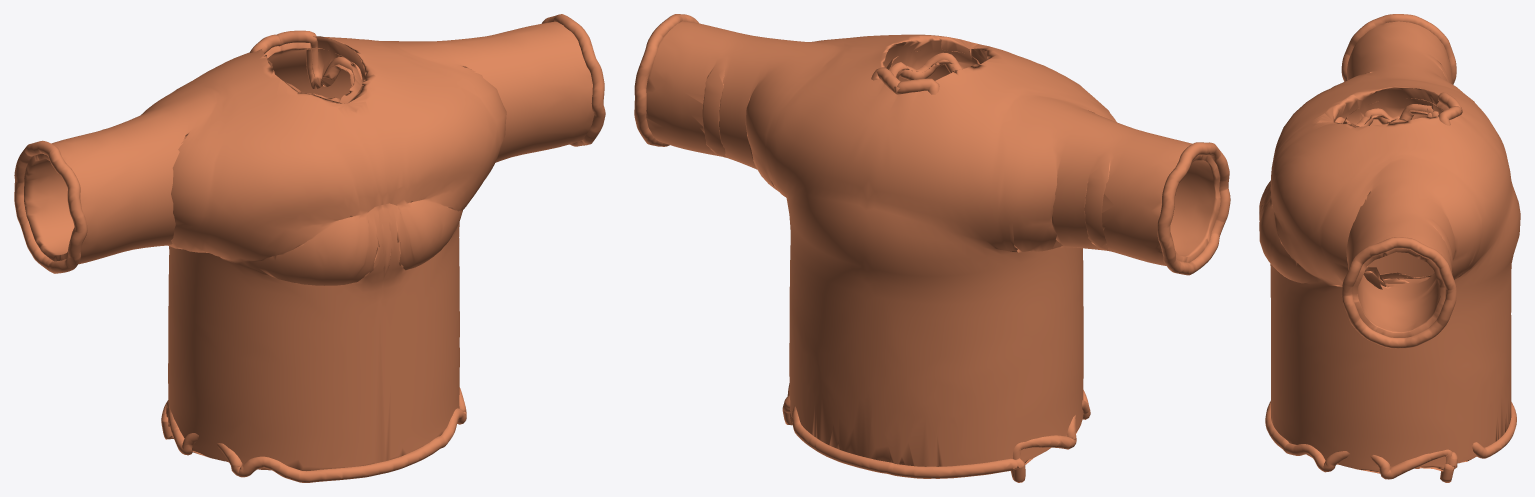
Rendered from 4HT-feminino.glb.
The picture shows the model from 3 angles, left to right: view 1: azimuth 30°, elevation 25°; view 2: azimuth 150°, elevation 25°; view 3: azimuth 270°, elevation 25°; orthographic projection. The views are drawn at different scales.
Visible parts, largest first — view 1: fitted-shell, bound-edge (×4); view 2: fitted-shell, bound-edge (×4); view 3: fitted-shell, bound-edge (×4).
Boxes of the visible parts, bbox=[...] form: fitted-shell: bbox=[24, 21, 593, 470]; bound-edge (×4): bbox=[14, 14, 605, 482]; fitted-shell: bbox=[646, 21, 1220, 466]; bound-edge (×4): bbox=[634, 14, 1230, 482]; fitted-shell: bbox=[1259, 21, 1520, 473]; bound-edge (×4): bbox=[1265, 14, 1516, 482].
Bounding box in the file's own units: 0.0631 × 0.0424 × 0.0303.
